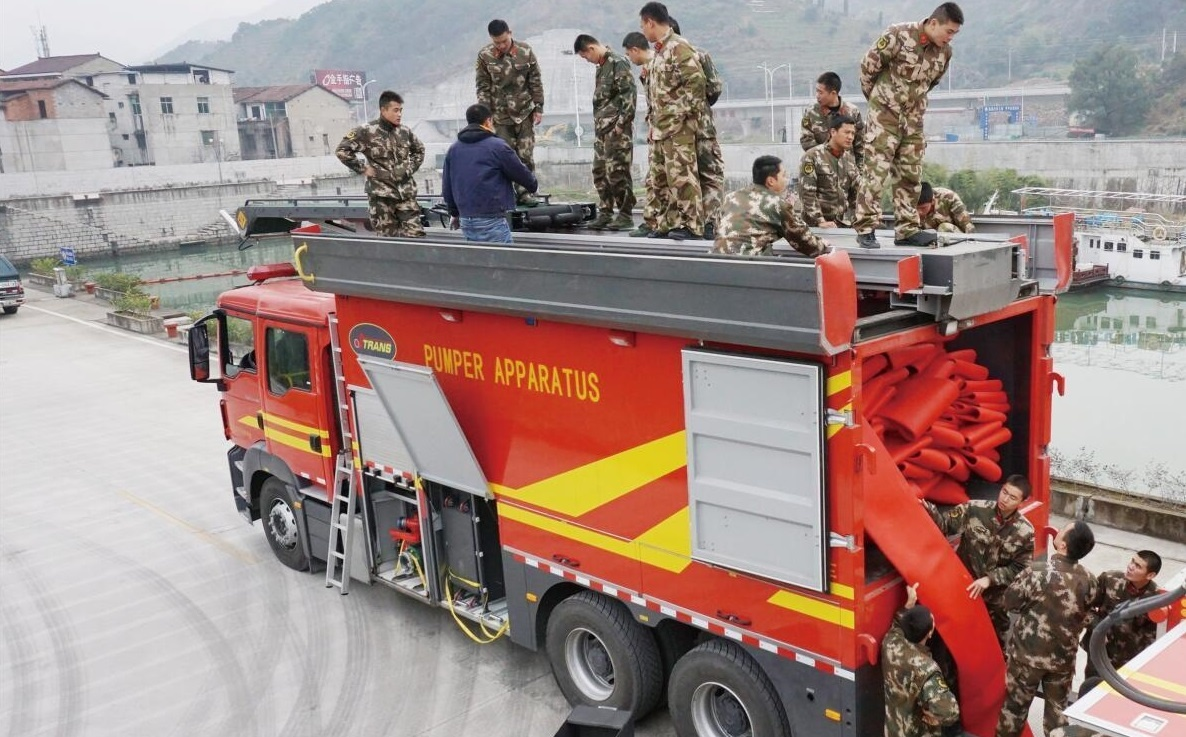fire engine: (168, 131, 1091, 737)
